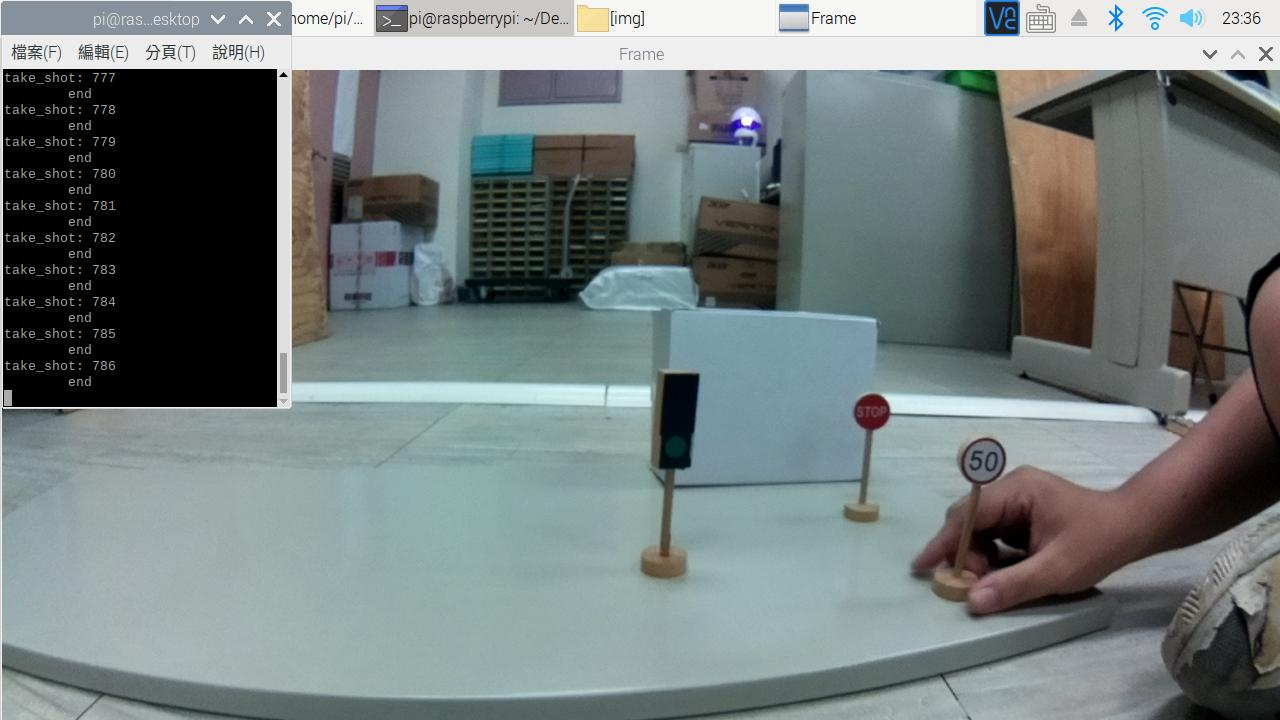Green: (638, 362, 714, 475)
Speed50: (951, 438, 1011, 496)
Stop: (855, 378, 898, 435)
